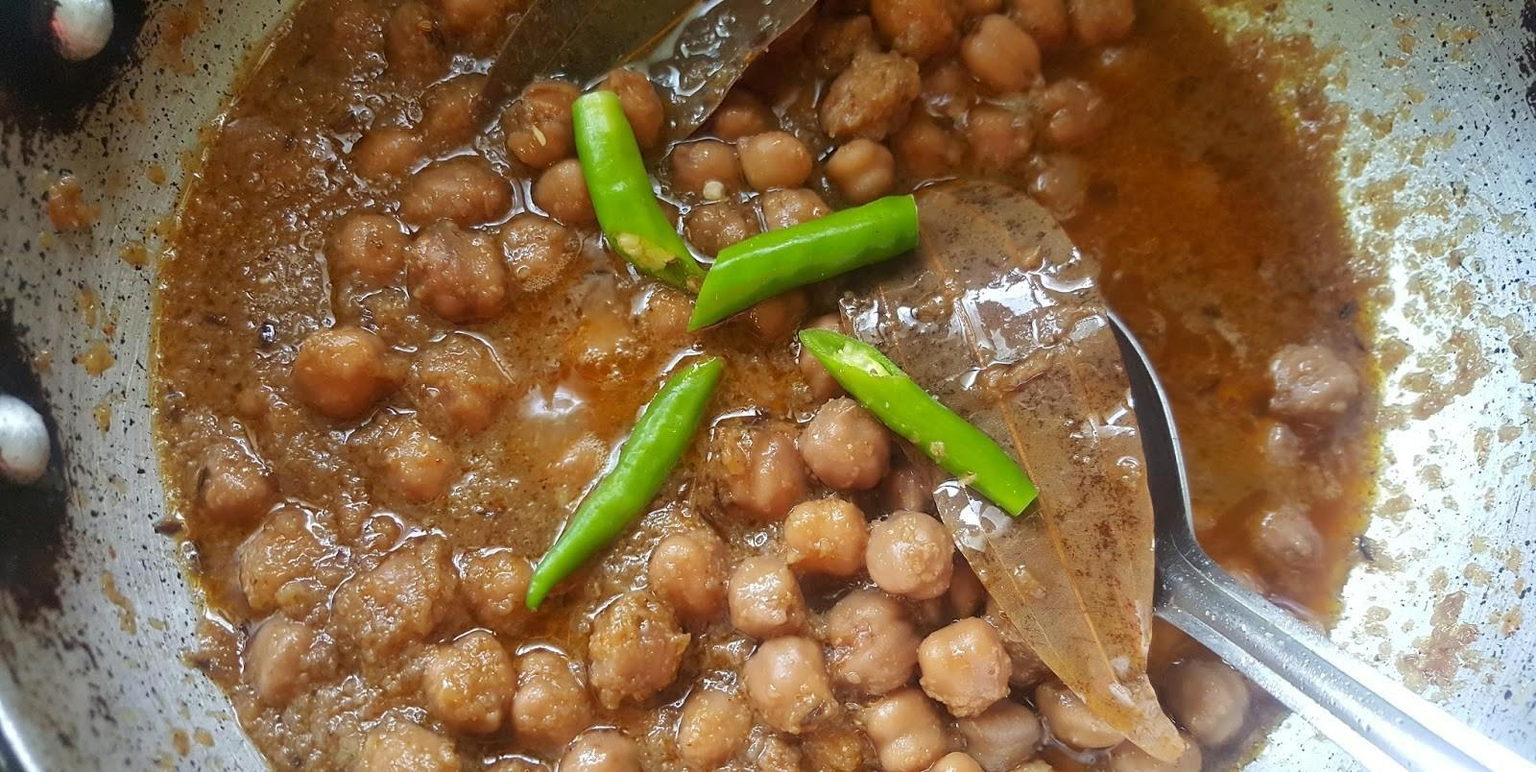Chole: (153, 0, 1386, 772)
